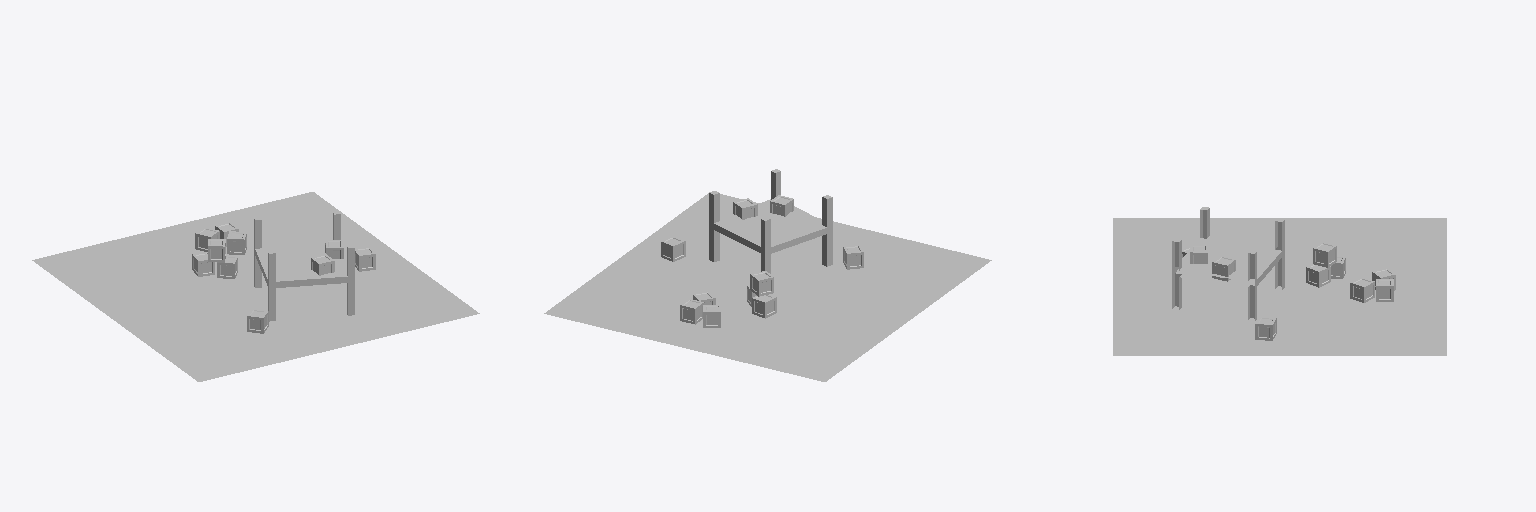
File: stage1.obj
The picture shows the model from 3 angles: view 1: azimuth 30°, elevation 25°; view 2: azimuth 150°, elevation 25°; view 3: azimuth 270°, elevation 25°; orthographic projection.
Parts seen in each view (by area): view 1: Scene_Plane.002; view 2: Scene_Plane.002; view 3: Scene_Plane.002.
Boxes of the visible parts, x1,y1,x2,y2 form: Scene_Plane.002: [32, 192, 479, 381]; Scene_Plane.002: [544, 169, 991, 381]; Scene_Plane.002: [1113, 207, 1446, 355].
Size of the model in its own units: 36.69 by 9.16 by 37.71.